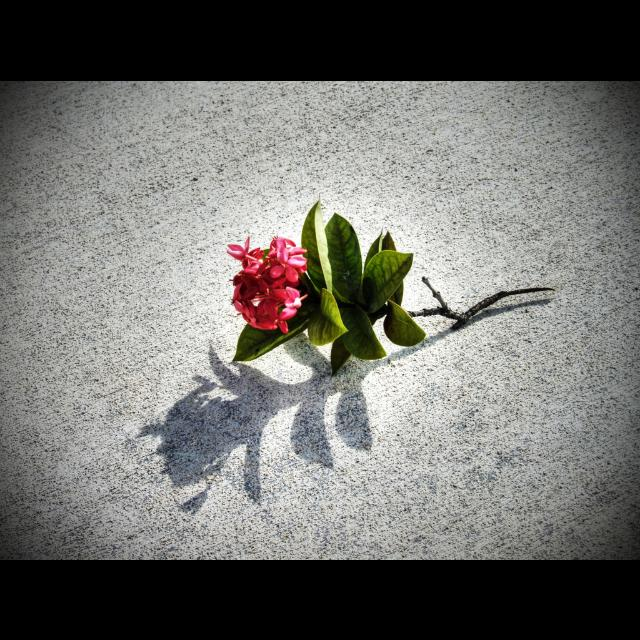Flower: (236, 218, 330, 334)
